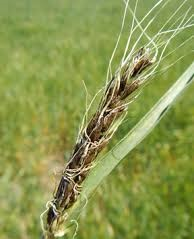Wheat Loose Smut: (52, 40, 161, 213)
